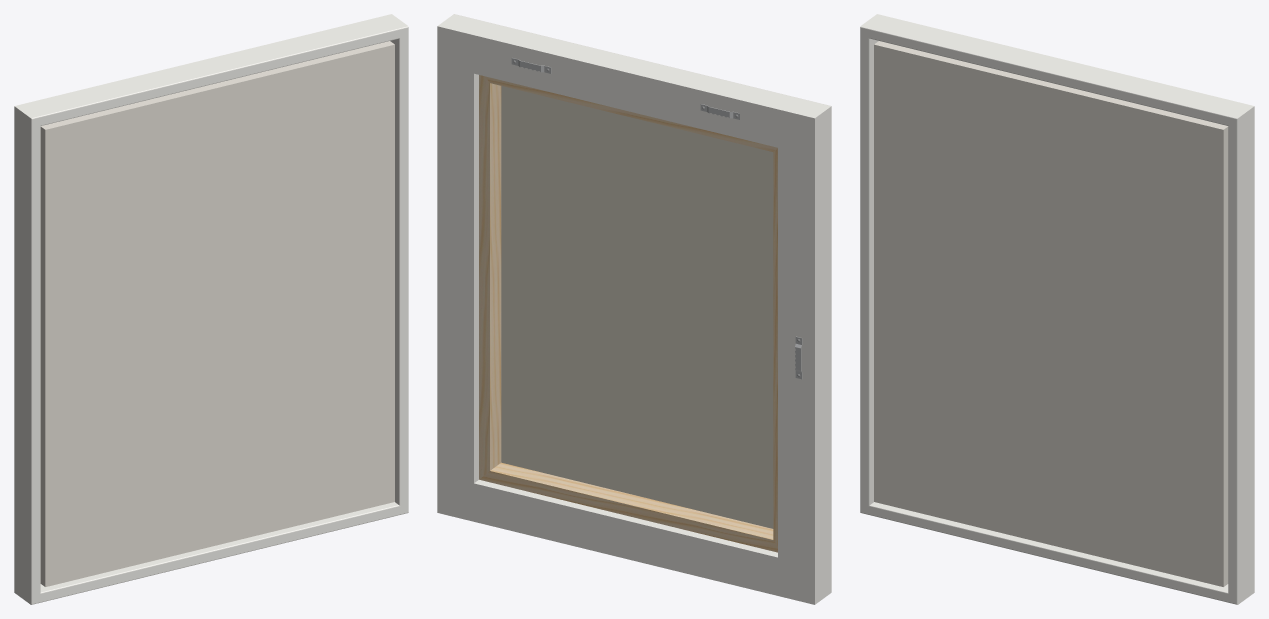
File: decoded-from-delivery.glb
The picture shows the model from 3 angles, left to right: view 1: azimuth 30°, elevation 25°; view 2: azimuth 150°, elevation 25°; view 3: azimuth 330°, elevation 25°; orthographic projection.
Parts seen in each view (by area): view 1: Canvas artwork front, Tray approved profile 0; view 2: Canvas linen reverse, Tray approved profile 0, Stretcher top, Sawtooth hanger 0; view 3: Canvas artwork front, Tray approved profile 0.
Part boxes in pixels (box(x1,y1,x2,y2)): Canvas artwork front: box(40, 41, 394, 586); Tray approved profile 0: box(14, 14, 408, 604); Canvas linen reverse: box(501, 86, 773, 528); Tray approved profile 0: box(437, 14, 831, 604); Stretcher top: box(479, 75, 777, 552); Sawtooth hanger 0: box(511, 58, 802, 379); Canvas artwork front: box(874, 41, 1228, 586); Tray approved profile 0: box(860, 14, 1254, 604).
Bounding box in the file's own units: 0.432 × 0.532 × 0.0364.
Materials: 7 (2 with a texture image).
